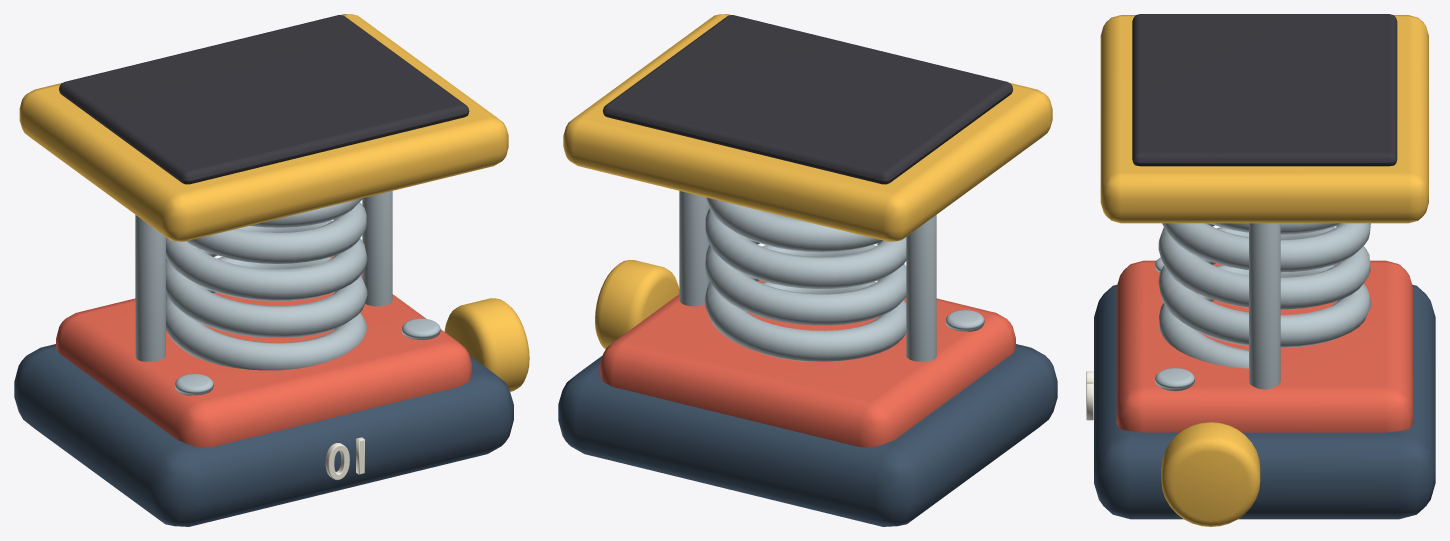
The model's file is spring.glb.
3 renders of one model, left to right at view 1: azimuth 30°, elevation 25°; view 2: azimuth 150°, elevation 25°; view 3: azimuth 270°, elevation 25°, orthographic. The views are drawn at different scales.
Parts seen in each view (by area): view 1: Grip pad, Weighted foot, Batch Brushed steel, Enamel base, spring_plate, Adjustment dial, Spring badge; view 2: Weighted foot, Grip pad, Batch Brushed steel, Enamel base, spring_plate, Adjustment dial; view 3: Grip pad, Enamel base, spring_plate, Weighted foot, Batch Brushed steel, Adjustment dial.
Boxes of the visible parts, x1,y1,x2,y2 form: Grip pad: [59, 15, 469, 184]; Weighted foot: [14, 344, 513, 526]; Batch Brushed steel: [135, 191, 440, 395]; Enamel base: [56, 256, 471, 447]; spring_plate: [19, 14, 508, 241]; Adjustment dial: [444, 298, 529, 391]; Spring badge: [325, 437, 364, 479]; Weighted foot: [558, 344, 1057, 526]; Grip pad: [603, 15, 1013, 184]; Batch Brushed steel: [679, 191, 984, 361]; Enamel base: [600, 280, 1015, 447]; spring_plate: [563, 14, 1052, 241]; Adjustment dial: [595, 260, 679, 349]; Grip pad: [1132, 14, 1397, 166]; Enamel base: [1116, 260, 1412, 432]; spring_plate: [1100, 15, 1428, 223]; Weighted foot: [1094, 284, 1435, 519]; Batch Brushed steel: [1154, 223, 1370, 391]; Adjustment dial: [1161, 422, 1260, 526].
Bounding box in the file's own units: 1.05 × 0.8775 × 0.777.
